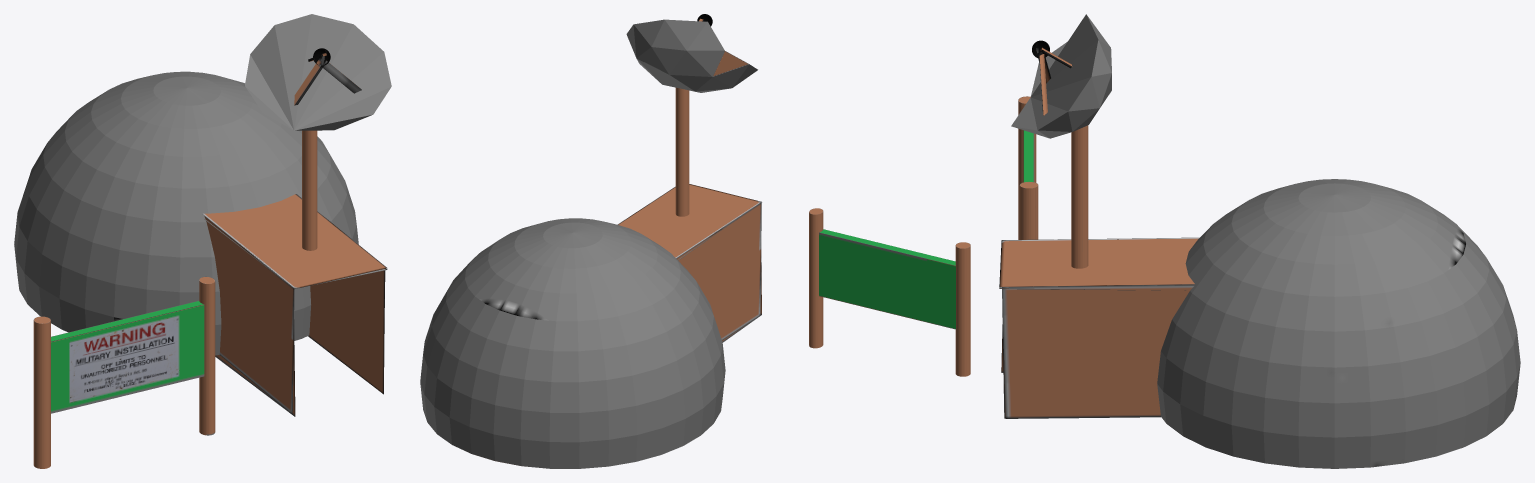
Rendered from radiostation.obj.
3 views of the same model, side by side, from view 1: azimuth 30°, elevation 25°; view 2: azimuth 150°, elevation 25°; view 3: azimuth 270°, elevation 25° (orthographic). The views are drawn at different scales.
Visible parts, largest first — view 1: Sphere, Cylinder, Cube_Cube.001, Plane.004, Plane.005, Plane, Cylinder.001, Plane.001; view 2: Sphere, Cube_Cube.001, Cylinder, Plane.004, Plane.005, Cylinder.001; view 3: Sphere, Plane.003, Cylinder, Plane.005, Cylinder.001, Cube_Cube.001.
Boxes of the visible parts, box(x1,y1,x2,y2) form: Sphere: box(14, 48, 361, 355); Cylinder: box(244, 14, 391, 250); Cube_Cube.001: box(51, 300, 204, 413); Plane.004: box(204, 216, 294, 414); Plane.005: box(202, 194, 387, 288); Plane: box(308, 270, 384, 394); Cylinder.001: box(33, 276, 215, 468); Plane.001: box(215, 55, 324, 416); Sphere: box(420, 14, 725, 468); Cube_Cube.001: box(819, 229, 955, 329); Cylinder: box(626, 19, 757, 216); Plane.004: box(676, 202, 761, 340); Plane.005: box(617, 184, 759, 258); Cylinder.001: box(809, 208, 970, 376); Sphere: box(1032, 40, 1520, 468); Plane.003: box(1002, 285, 1194, 418); Cylinder: box(1011, 14, 1111, 268); Plane.005: box(999, 237, 1199, 287); Cylinder.001: box(1018, 96, 1038, 239); Cube_Cube.001: box(1023, 130, 1034, 182).
Size of the model in its own units: 28.06 by 21.7 by 27.3.
